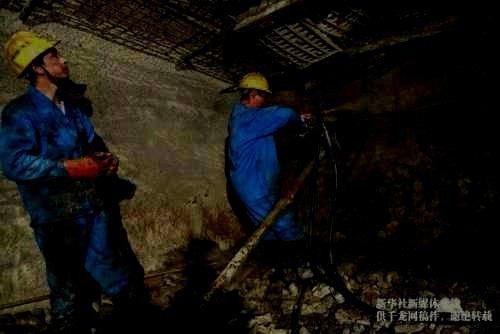helmet: (4, 31, 69, 79), (237, 72, 273, 109)
